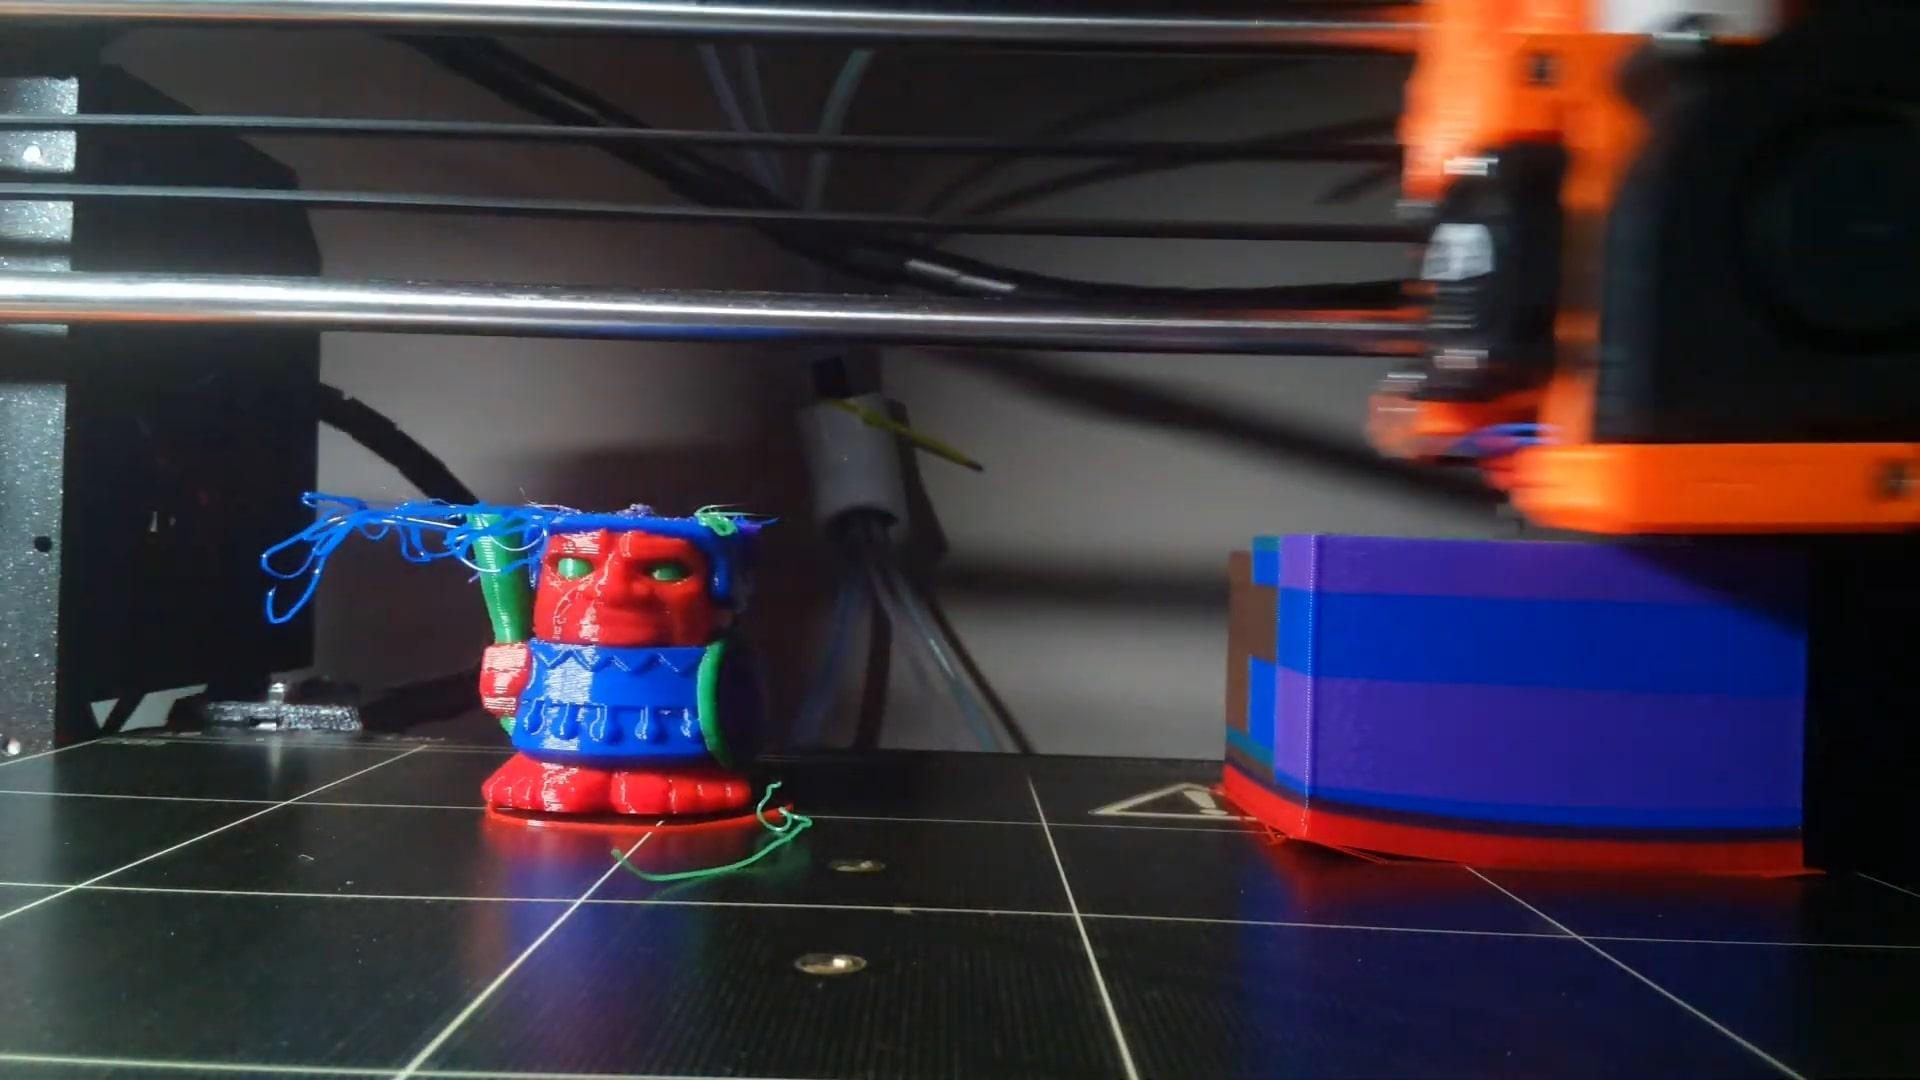Printing-Artifact: (235, 447, 550, 617)
